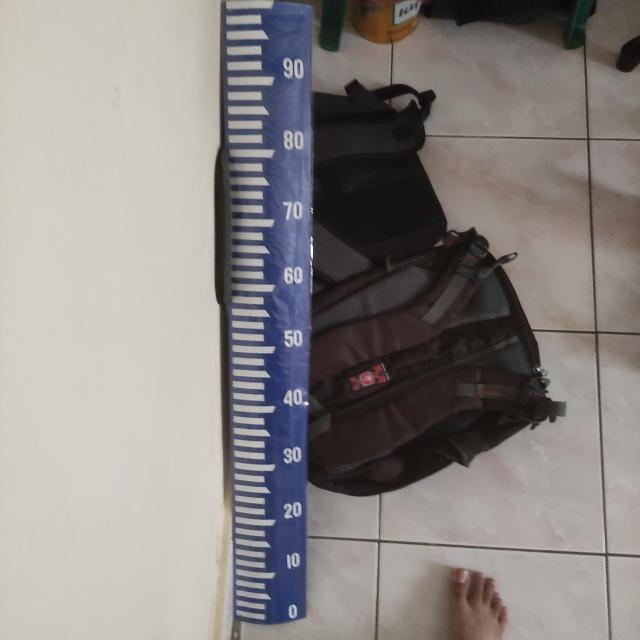10: (284, 552, 302, 569)
20: (282, 498, 303, 523)
30: (281, 444, 302, 467)
40: (282, 386, 305, 409)
50: (282, 327, 305, 349)
60: (282, 264, 306, 285)
70: (282, 198, 306, 222)
80: (282, 127, 306, 153)
90: (281, 55, 306, 84)
staff: (227, 3, 311, 625)
